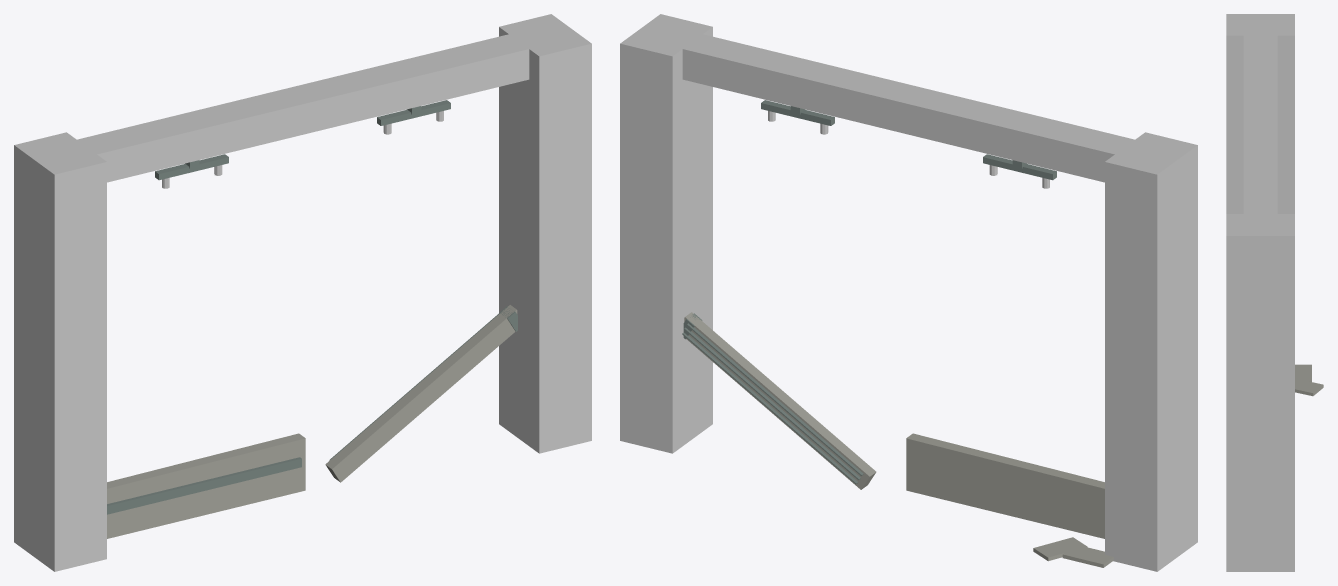
The model's file is SM_PuertaViaDoble_v4_Blindada_e2_MuyDanado_LOD0.fbx.
3 renders of one model, left to right at view 1: azimuth 30°, elevation 25°; view 2: azimuth 150°, elevation 25°; view 3: azimuth 270°, elevation 25°, orthographic. The views are drawn at different scales.
Parts seen in each view (by area): view 1: SM_puerta_via_doble_v18_LOD0, Hoja_O, Hoja_E; view 2: SM_puerta_via_doble_v18_LOD0, Hoja_O, Hoja_E; view 3: SM_puerta_via_doble_v18_LOD0.
Part boxes in pixels (box(x1,y1,x2,y2)): SM_puerta_via_doble_v18_LOD0: box(14, 14, 591, 571); Hoja_O: box(107, 433, 305, 538); Hoja_E: box(325, 305, 517, 482); SM_puerta_via_doble_v18_LOD0: box(620, 14, 1197, 571); Hoja_O: box(906, 433, 1104, 538); Hoja_E: box(682, 312, 876, 489); SM_puerta_via_doble_v18_LOD0: box(1226, 14, 1323, 571).
Bounding box in the file's own units: 9.2 × 6.53 × 1.7.
